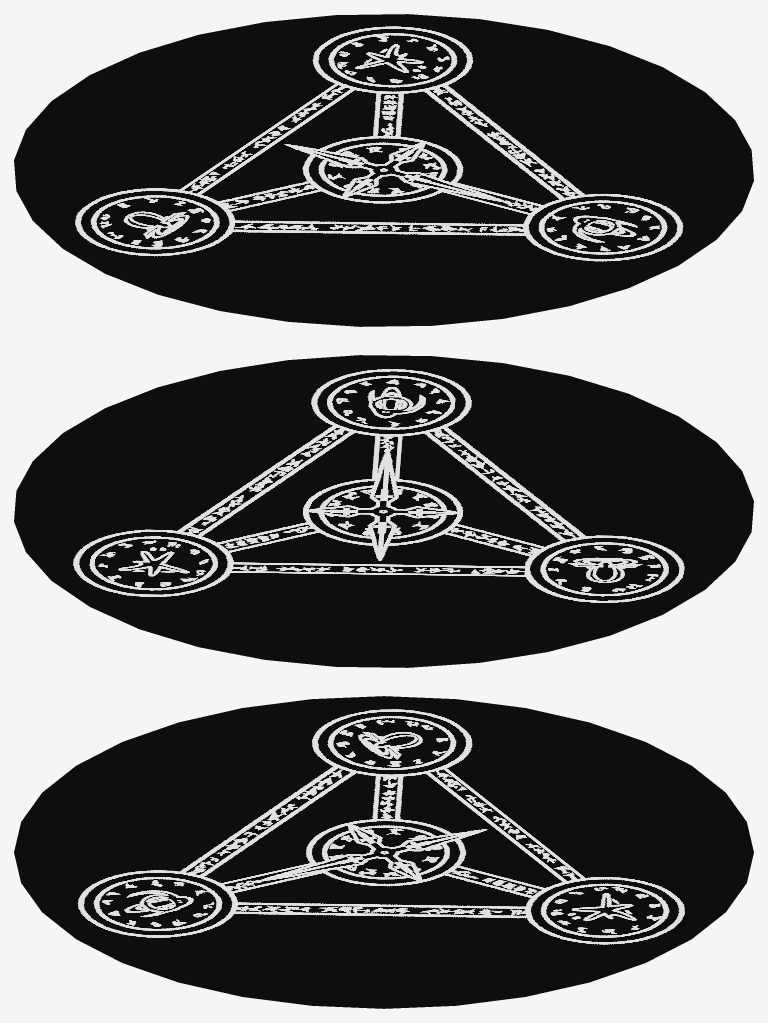
File: triangle.obj
The picture shows the model from 3 angles, top to bottom: view 1: azimuth 30°, elevation 25°; view 2: azimuth 150°, elevation 25°; view 3: azimuth 270°, elevation 25°; orthographic projection.
Parts seen in each view (by area): view 1: Circle; view 2: Circle; view 3: Circle.
Boxes of the visible parts, box(x1,y1,x2,y2) form: Circle: box(14, 14, 753, 326); Circle: box(14, 355, 753, 667); Circle: box(14, 696, 753, 1008).
Size of the model in its own units: 12.05 by 0 by 12.05.
Materials: 1 (1 with a texture image).
